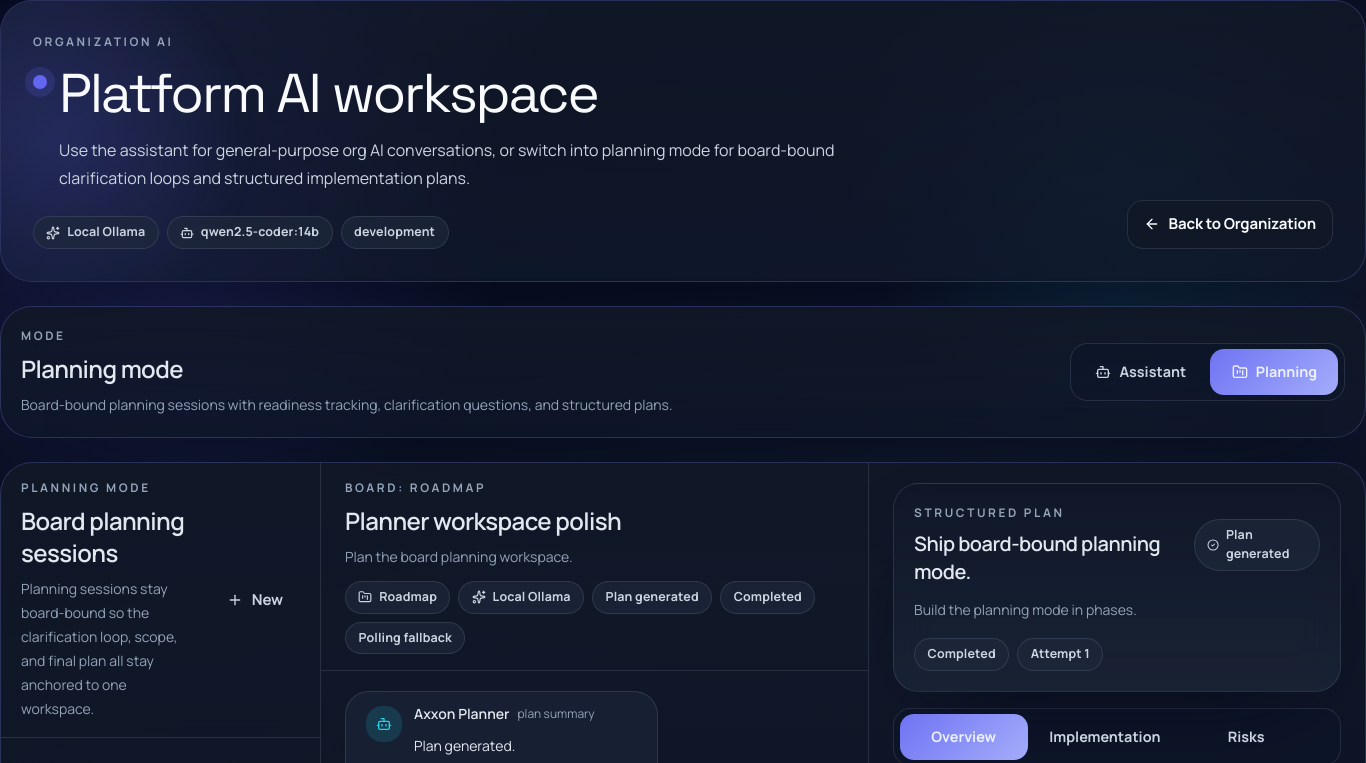
Test: OrganizationAiWorkspace › renders the structured planning view when a planning session is selected
This screenshot has width=1366, height=763.
Check: the heading "Board planning sessions" is shown, box [21,505,198,569]
Click the tab "Implementation" at coordinates (1105, 737), box [1033,714,1177,760]
(page scrolled)
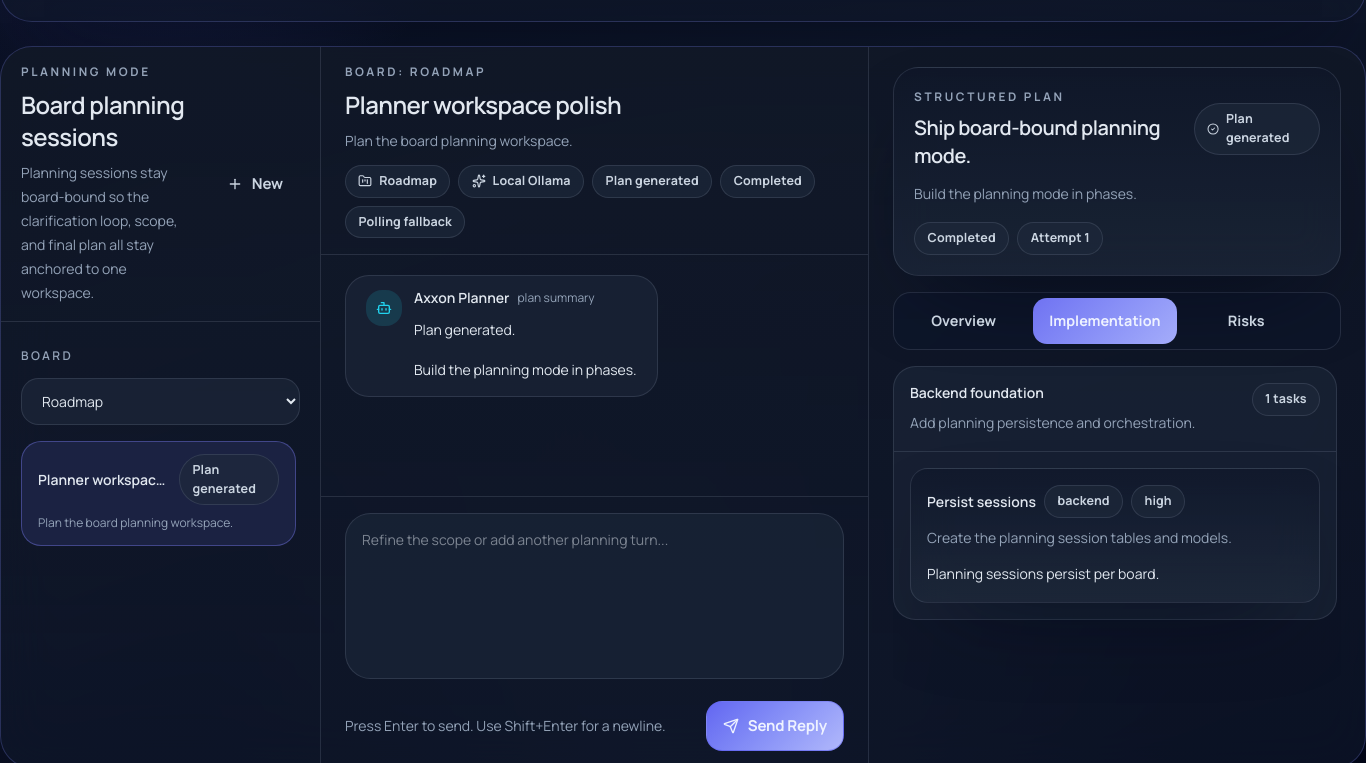
Check: the text "Backend foundation" is shown, box [910,383,1044,402]
Check: the text "Persist sessions" is shown, box [927,492,1036,512]
